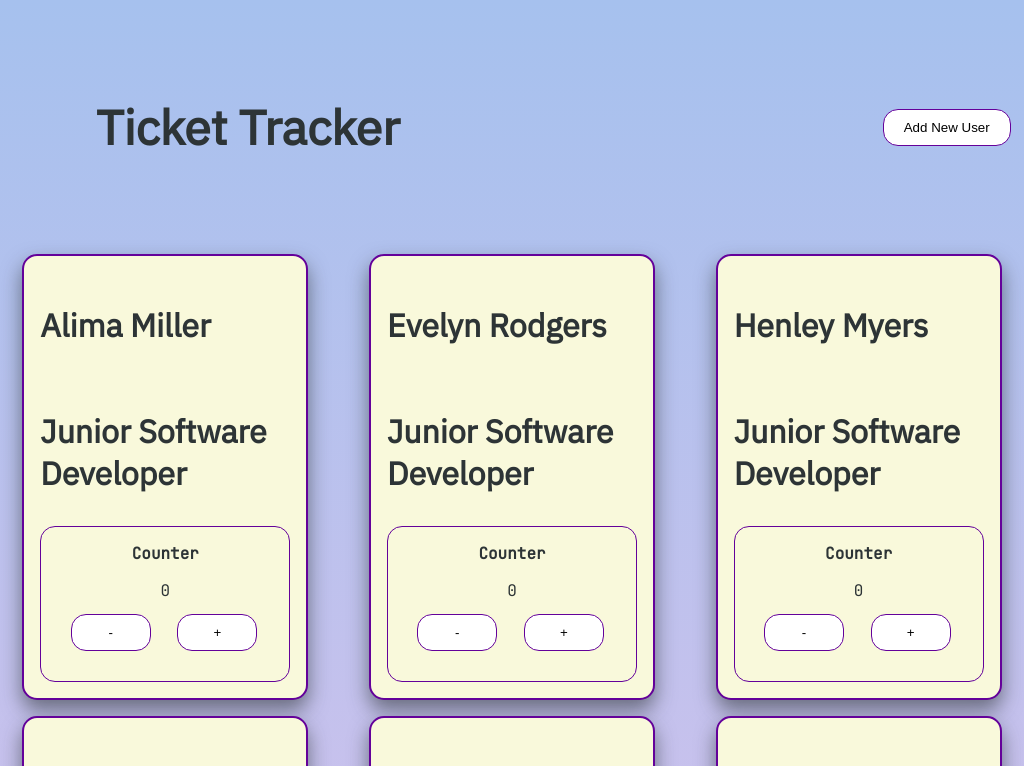
Scenario: Testing user interaction › should show form when the add user button is pressed
Click the element with test id "addButton".
click(947, 127)  # box [883,108,1011,146]
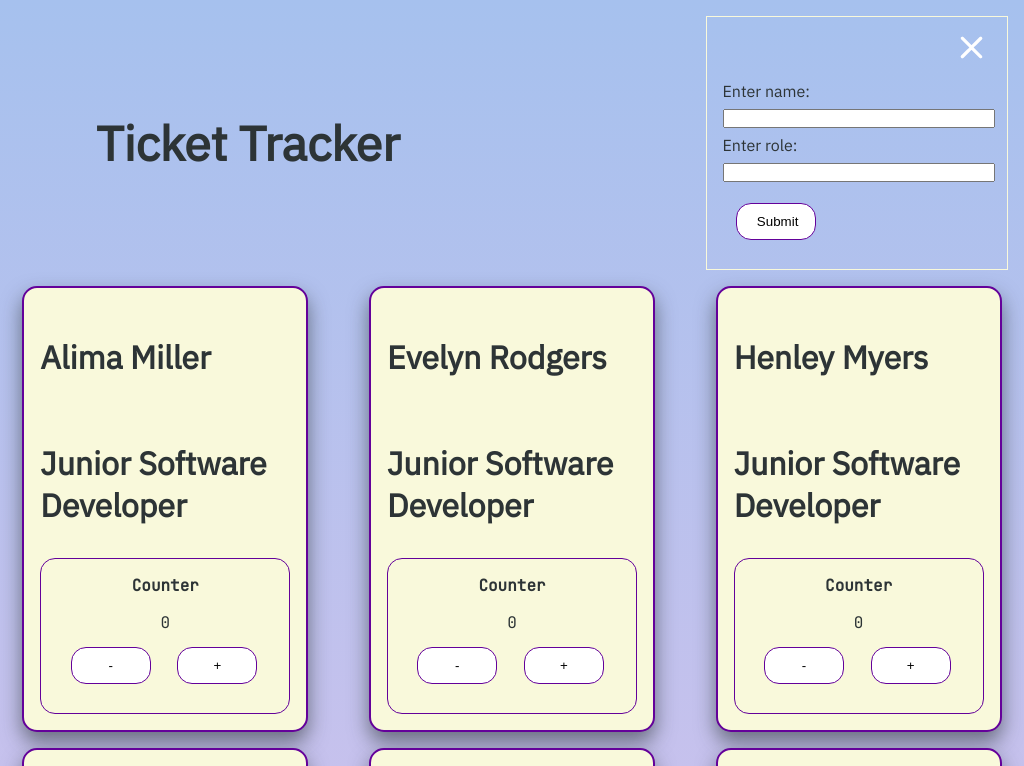
Check: the form with test id "userForm" is shown, box [706,16,1008,270]
Check: the element with test id "addButton" is gone
